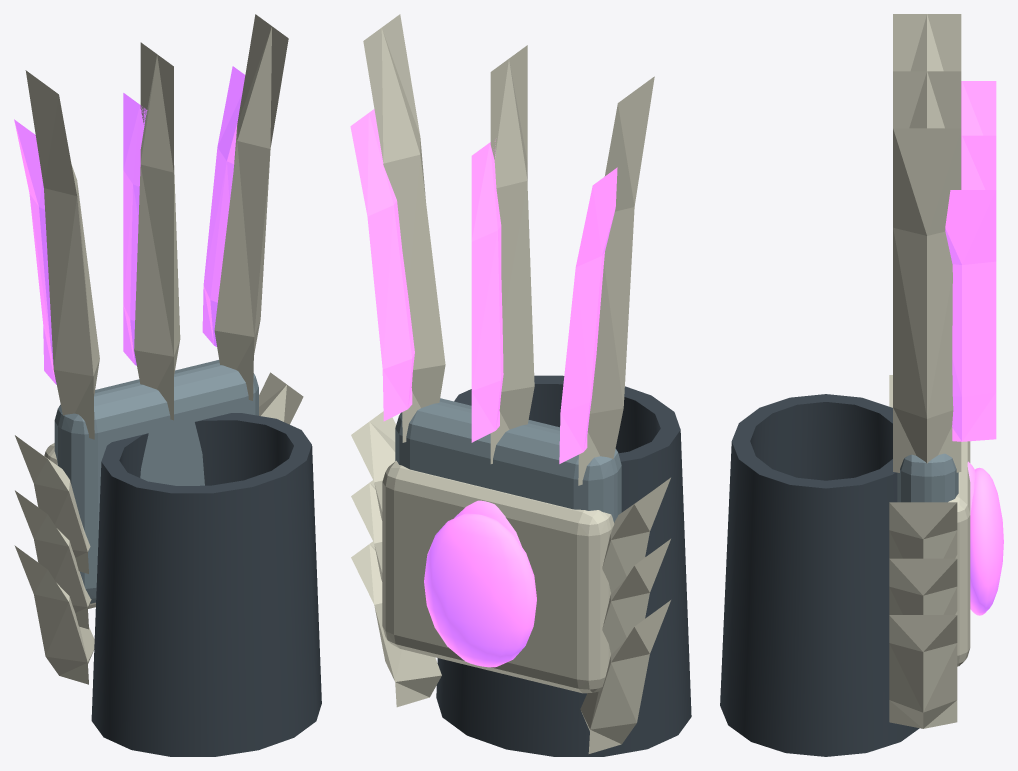
The model's file is YK_02_Claw_Weapon_E03.glb.
The picture shows the model from 3 angles, left to right: view 1: azimuth 30°, elevation 25°; view 2: azimuth 150°, elevation 25°; view 3: azimuth 270°, elevation 25°; orthographic projection. The views are drawn at different scales.
Parts seen in each view (by area): view 1: SM_YK_02_Claw_Weapon_P00, SM_YK_02_Claw_Weapon_P02, SM_YK_02_Claw_Weapon_P03; view 2: SM_YK_02_Claw_Weapon_P00, SM_YK_02_Claw_Weapon_P03, SM_YK_02_Claw_Weapon_P01, SM_YK_02_Claw_Weapon_P02; view 3: SM_YK_02_Claw_Weapon_P00, SM_YK_02_Claw_Weapon_P03, SM_YK_02_Claw_Weapon_P02, SM_YK_02_Claw_Weapon_P01.
Part boxes in pixels (left/top/right/bottom): SM_YK_02_Claw_Weapon_P00: left=25, top=14, right=321, bottom=756; SM_YK_02_Claw_Weapon_P02: left=14, top=372, right=303, bottom=684; SM_YK_02_Claw_Weapon_P03: left=14, top=66, right=245, bottom=384; SM_YK_02_Claw_Weapon_P00: left=363, top=14, right=691, bottom=756; SM_YK_02_Claw_Weapon_P03: left=350, top=109, right=617, bottom=667; SM_YK_02_Claw_Weapon_P01: left=382, top=460, right=614, bottom=693; SM_YK_02_Claw_Weapon_P02: left=351, top=411, right=670, bottom=753; SM_YK_02_Claw_Weapon_P00: left=720, top=14, right=975, bottom=756; SM_YK_02_Claw_Weapon_P03: left=945, top=81, right=1003, bottom=615; SM_YK_02_Claw_Weapon_P02: left=889, top=375, right=957, bottom=728; SM_YK_02_Claw_Weapon_P01: left=948, top=441, right=970, bottom=666.
Size of the model in its own units: 0.31 by 0.72 by 0.292.
